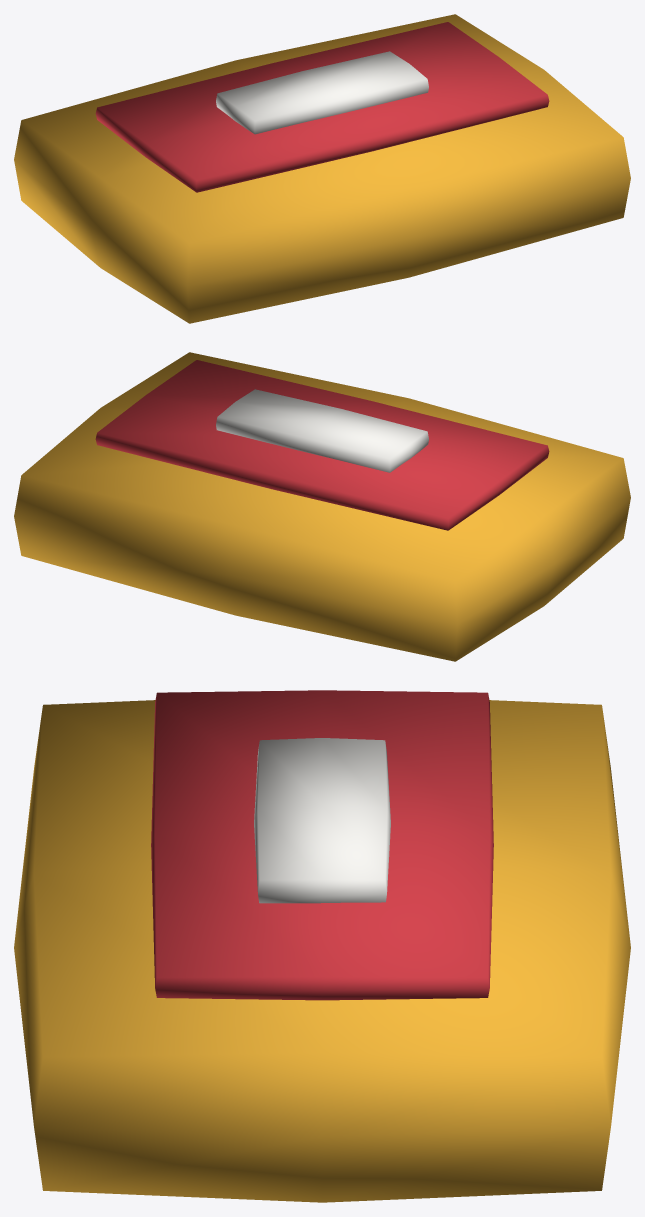
Rendered from pasta_packet.glb.
3 renders of one model, top to bottom at view 1: azimuth 30°, elevation 25°; view 2: azimuth 150°, elevation 25°; view 3: azimuth 270°, elevation 25°, orthographic. The views are drawn at different scales.
Visible parts, largest first — view 1: root; view 2: root; view 3: root.
Part boxes in pixels (x1,y1,x2,y2): root: (14,14,630,323); root: (14,352,630,661); root: (14,690,630,1202).
Size of the model in its own units: 0.26 by 0.076 by 0.18.
